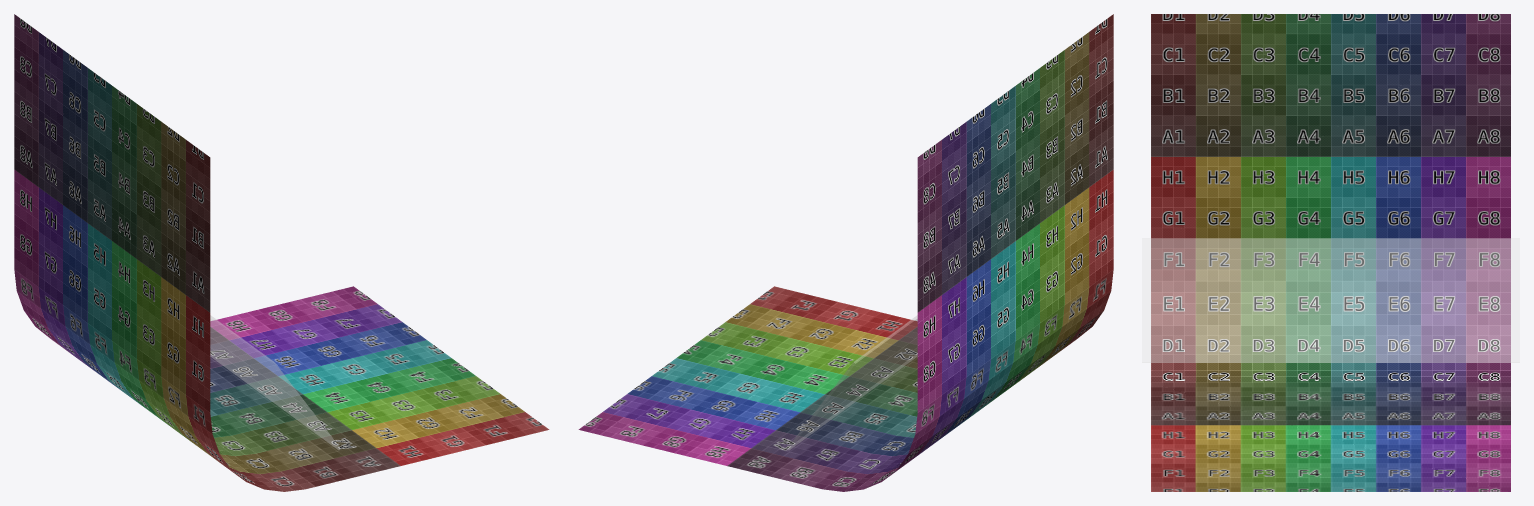
Rendered from glass.glb.
3 views of the same model, side by side, from view 1: azimuth 30°, elevation 25°; view 2: azimuth 150°, elevation 25°; view 3: azimuth 270°, elevation 25° (orthographic). The views are drawn at different scales.
Visible parts, largest first — view 1: 平面; view 2: 平面; view 3: 平面.
Part boxes in pixels (x1,y1,x2,y2): 平面: (14,14,549,491); 平面: (578,14,1113,491); 平面: (1142,14,1519,491).
Size of the model in its own units: 4 by 4 by 4.2.
Materials: 2 (1 with a texture image).
